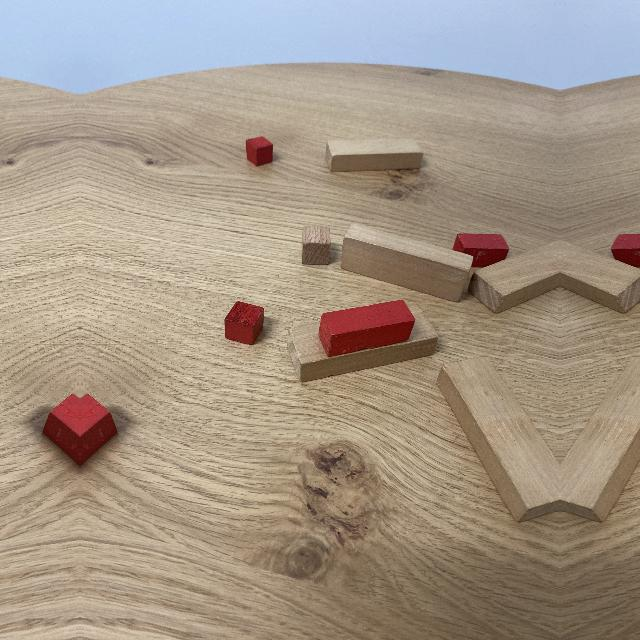cube: (300, 224, 332, 262)
jenga: (437, 357, 560, 523), (560, 357, 640, 523), (288, 307, 438, 383), (340, 224, 474, 303), (474, 240, 560, 314), (560, 240, 640, 314), (328, 139, 423, 172)
red block: (318, 300, 416, 356), (80, 394, 117, 470), (43, 394, 80, 470), (452, 233, 509, 267), (611, 234, 640, 267)
red cube: (224, 301, 264, 345), (246, 136, 273, 167)
